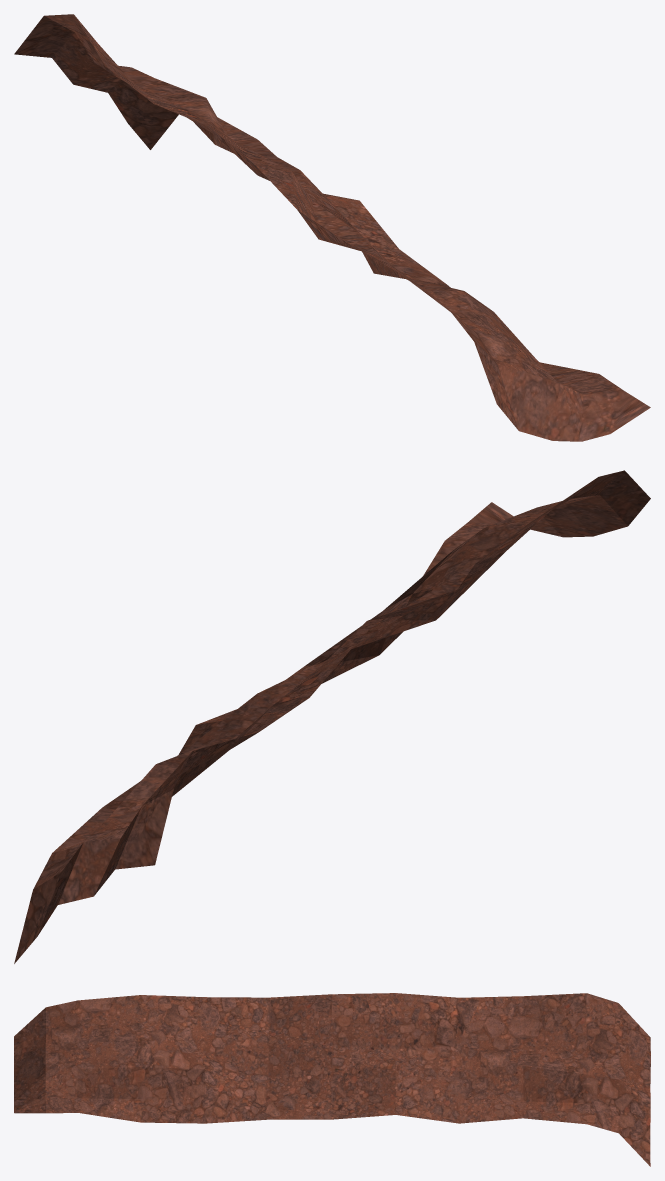
The model's file is rockskirt.glb.
3 renders of one model, top to bottom at view 1: azimuth 30°, elevation 25°; view 2: azimuth 150°, elevation 25°; view 3: azimuth 270°, elevation 25°, orthographic. The views are drawn at different scales.
Parts seen in each view (by area): view 1: rockskirt; view 2: rockskirt; view 3: rockskirt.
Boxes of the visible parts, x1,y1,x2,y2 form: rockskirt: (14, 14, 650, 441); rockskirt: (14, 470, 650, 963); rockskirt: (14, 993, 650, 1166).
Bounding box in the file's own units: 1.75 × 2.1 × 9.08.
1 material, 1 textured.
